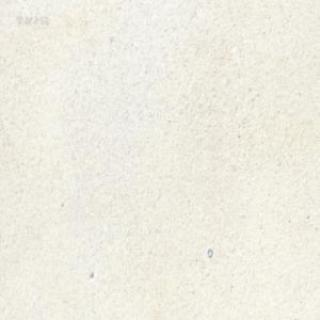Washertrack_idkeyframe: (206, 247, 212, 257)
